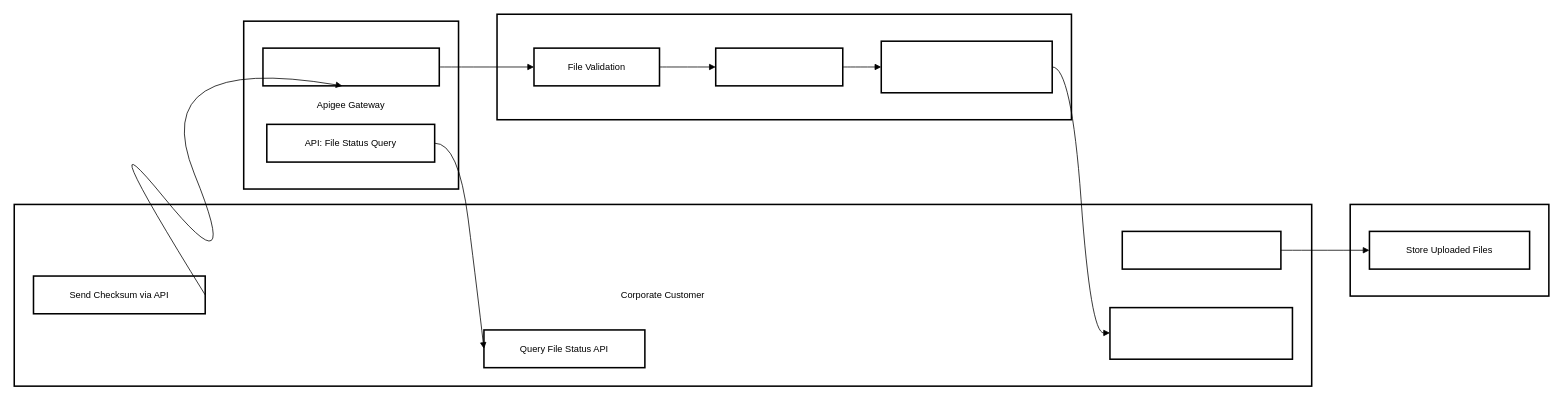
Image size: 1562x400. Some labels were removed from this diagram. The centre of each missing label's shape, as x and y in pixels:
API: Validate Checksum: pixel 351 66
File Processing: pixel 779 66
File Upload via SFTP: pixel 1201 250
Receive Notifications via RabbitMQ: pixel 1201 333
Update RabbitMQ with Status: pixel 966 66
